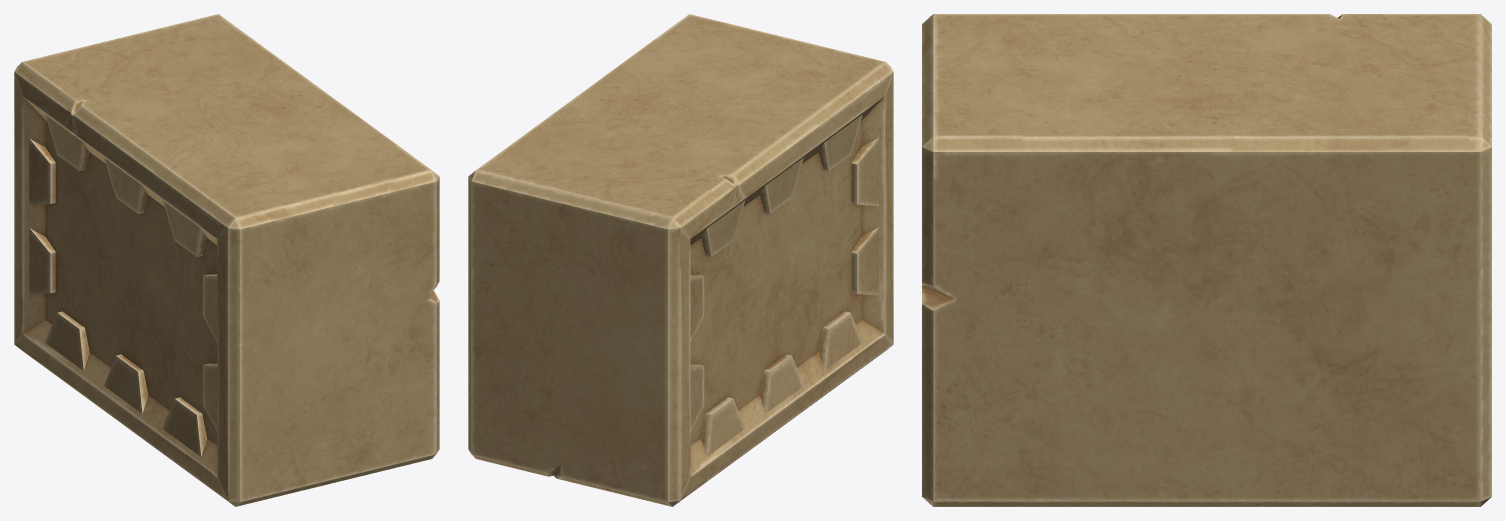
Rendered from Ruin brick.FBX.
The picture shows the model from 3 angles, left to right: view 1: azimuth 30°, elevation 25°; view 2: azimuth 150°, elevation 25°; view 3: azimuth 270°, elevation 25°; orthographic projection. The views are drawn at different scales.
Visible parts, largest first — view 1: Ruin brick 1; view 2: Ruin brick 1; view 3: Ruin brick 1.
Boxes of the visible parts, <box> form: Ruin brick 1: <box>14,14,439,506</box>; Ruin brick 1: <box>468,14,893,506</box>; Ruin brick 1: <box>922,14,1491,506</box>.
Bounding box in the file's own units: 1447 × 1875 × 2617.
Materials: 1 (1 with a texture image).
